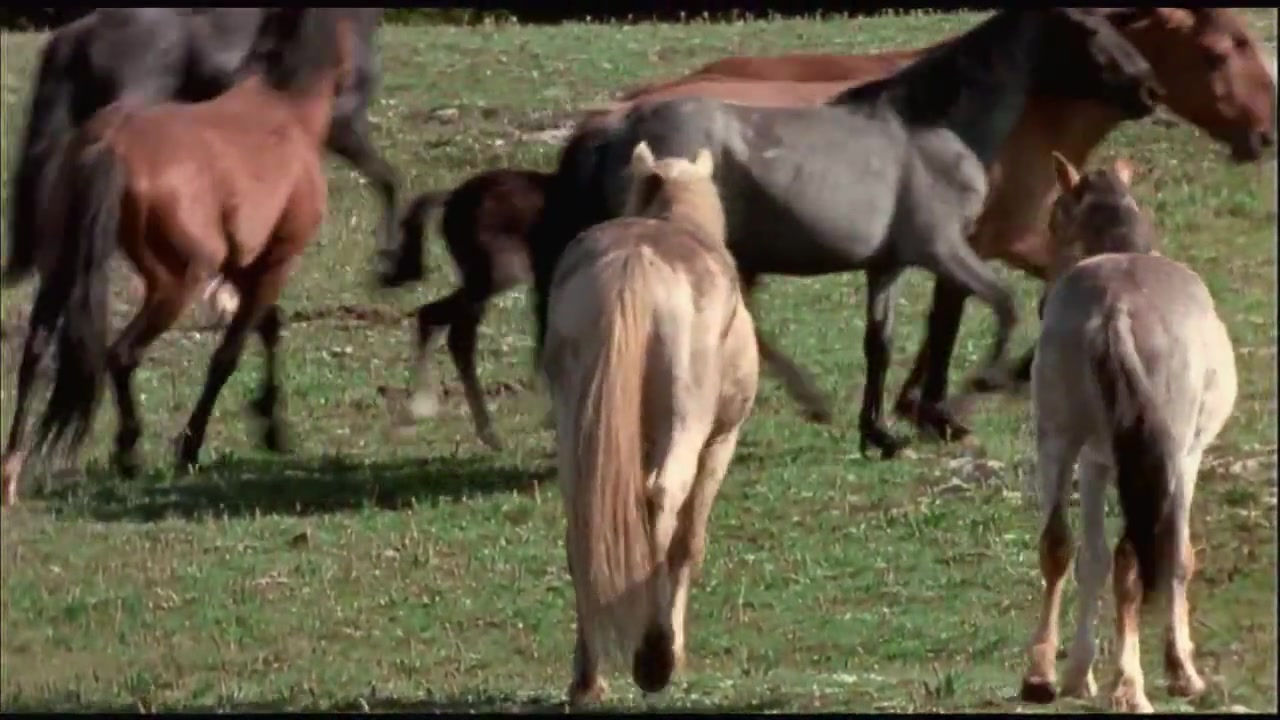horse: (542, 143, 763, 707)
